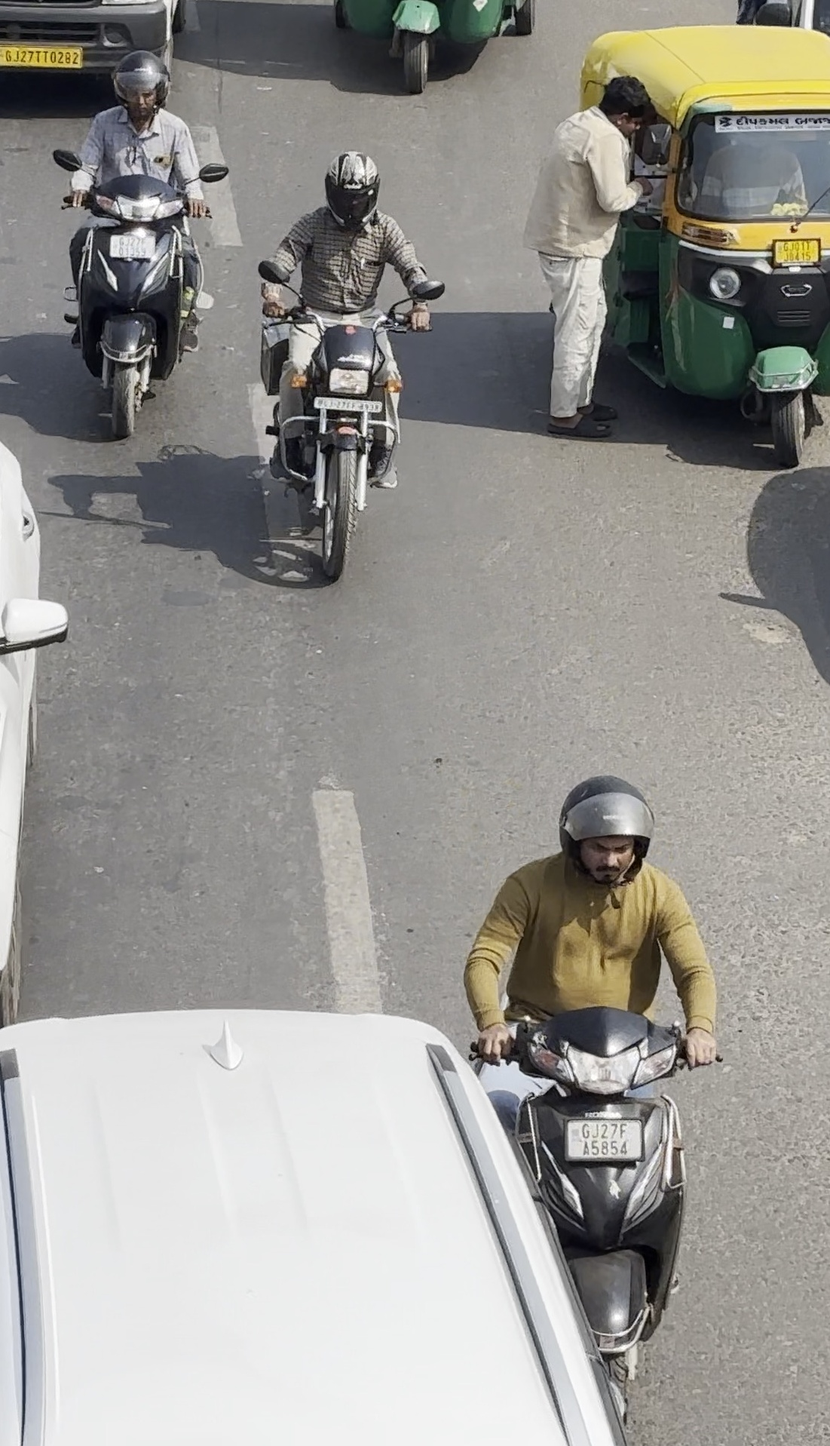BikeWithRider: (449, 769, 729, 1429), (247, 145, 449, 593), (45, 43, 229, 444)
Helmet: (553, 771, 655, 892), (315, 147, 391, 227), (108, 50, 175, 130)
